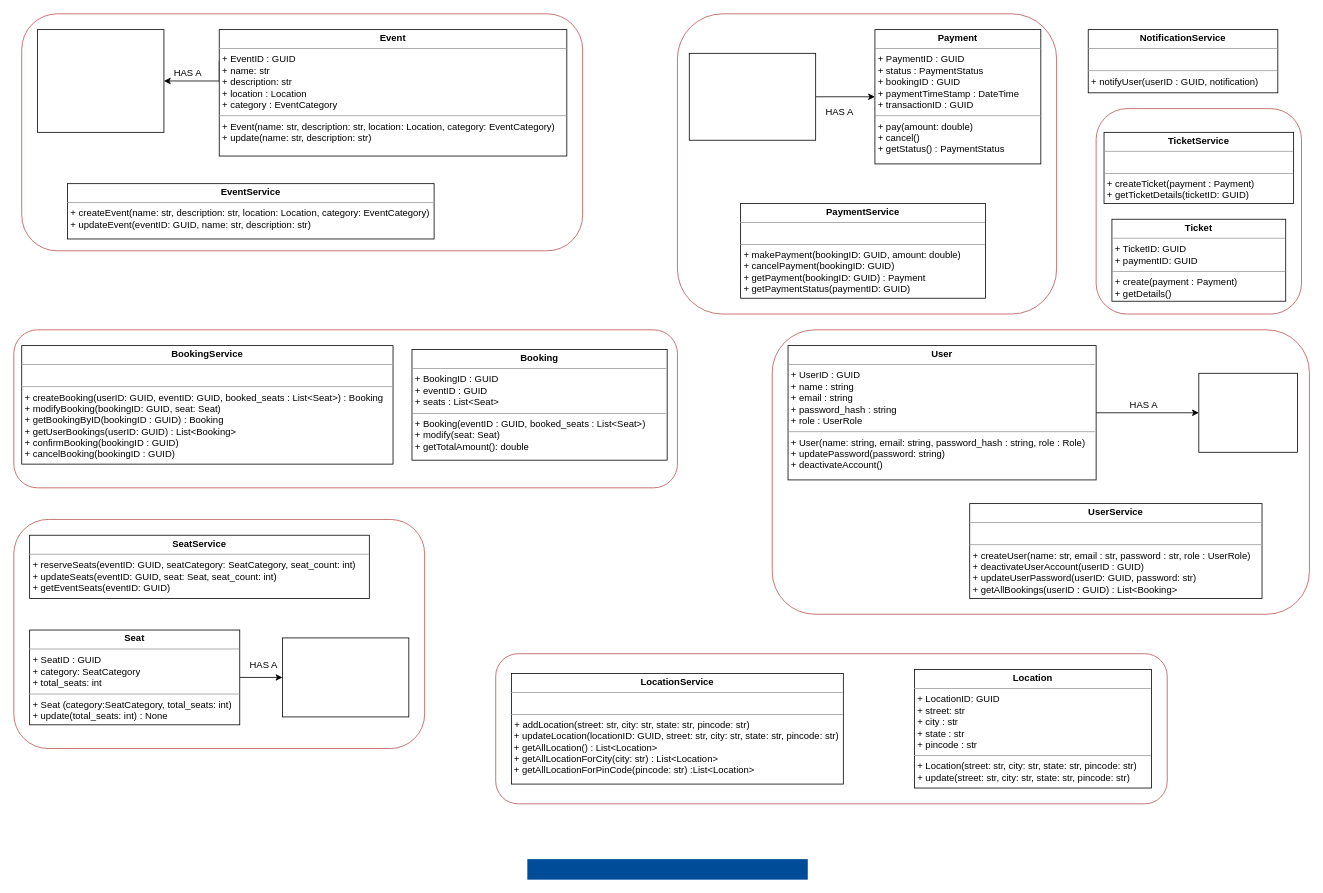
The diagram is 1323 pixels wide and 893 high, and some of its shapes have lost their labels. Here are the shapes that lost their labels. From the top down, the box of each, then its label:
(37, 29, 164, 132): EventCategory <<Enum>> + KATHA + PUJA + PRAVACHAN + SATSANG + SPECIAL EVENT
(688, 53, 816, 140): PaymentStatus <<Enum>> + SUCCESS + PENDING + FAILED + CANCELLED
(1198, 372, 1298, 452): UserRole <<Enum>> + ORGANISER + ATTENDEE + ADMIN
(282, 637, 409, 717): SeatCategory <<Enum>> + VIP + SPECIAL GUEST + REGULAR
(527, 859, 807, 879): MySanskriti
